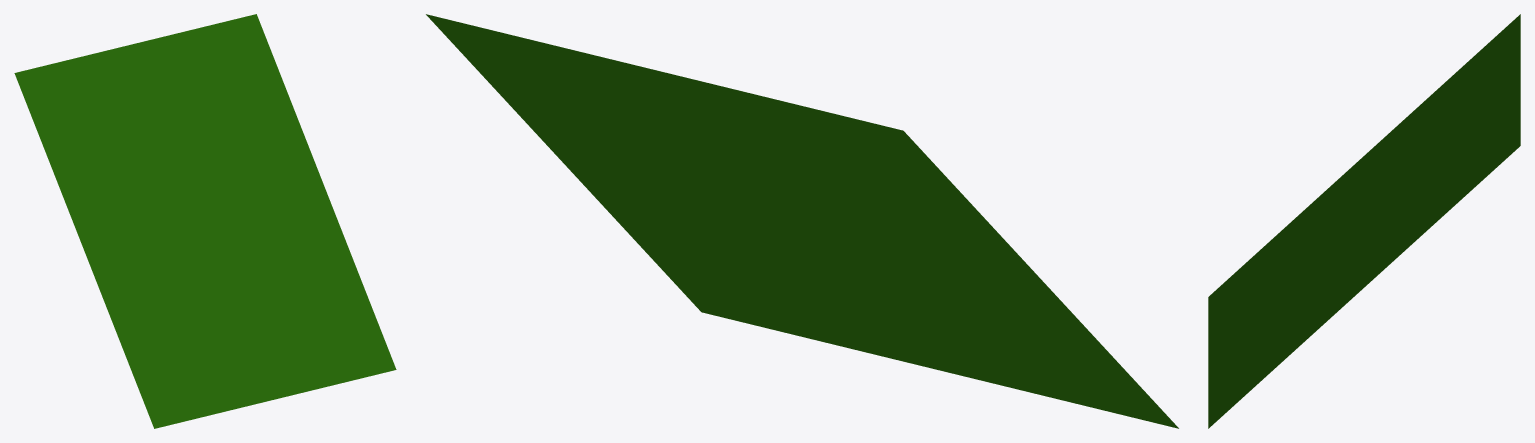
File: hill-side-2.glb
The picture shows the model from 3 angles, left to right: view 1: azimuth 30°, elevation 25°; view 2: azimuth 150°, elevation 25°; view 3: azimuth 270°, elevation 25°; orthographic projection. The views are drawn at different scales.
Parts seen in each view (by area): view 1: mesh0; view 2: mesh0; view 3: mesh0.
Boxes of the visible parts, <box> form: mesh0: <box>14,14,396,428</box>; mesh0: <box>426,14,1178,428</box>; mesh0: <box>1208,14,1520,428</box>.
Bounding box in the file's own units: 0.6 × 0.6 × 0.6.
